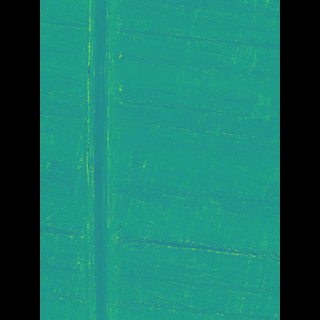Loch: (98, 0, 135, 320)
